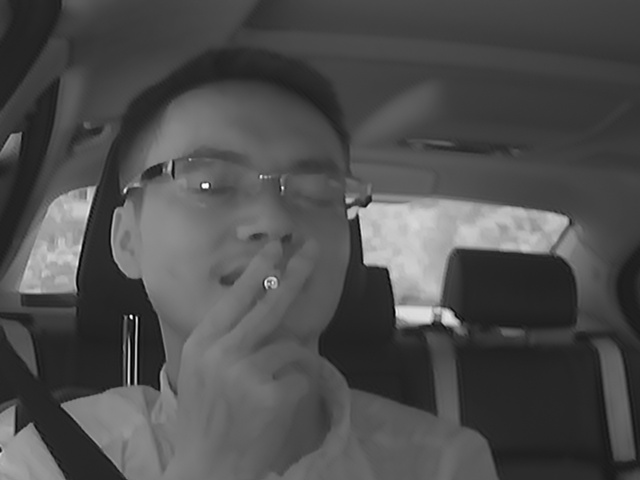hand: (190, 246, 327, 416)
